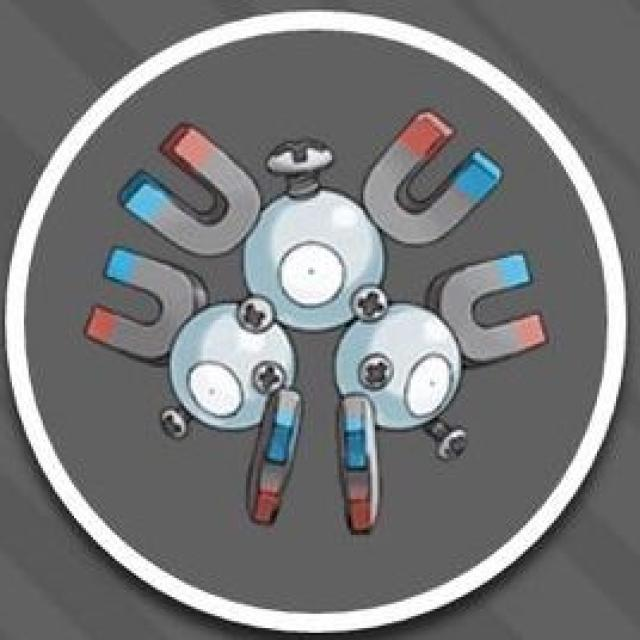Magneton: (131, 117, 476, 484)
